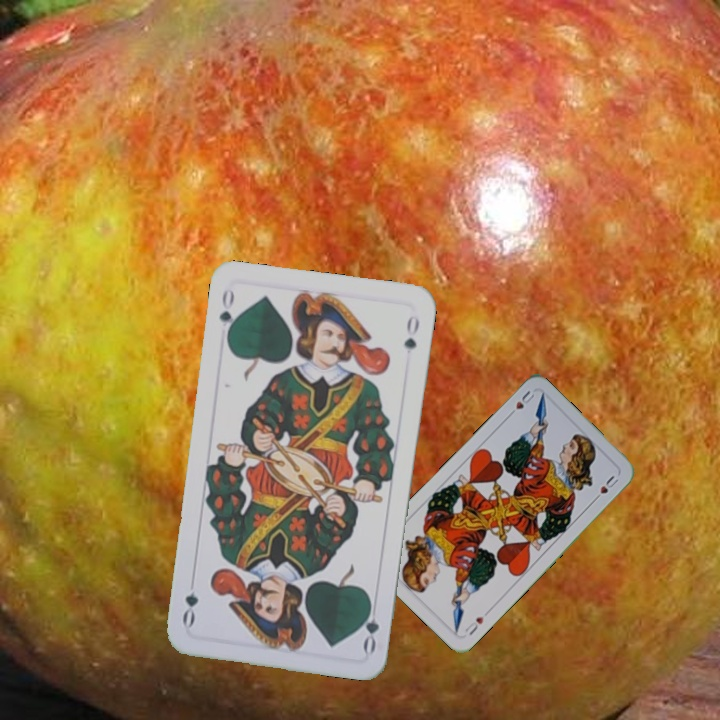GO: (215, 285, 240, 344), (359, 595, 382, 655)
HU: (504, 386, 537, 419), (461, 612, 487, 638)
